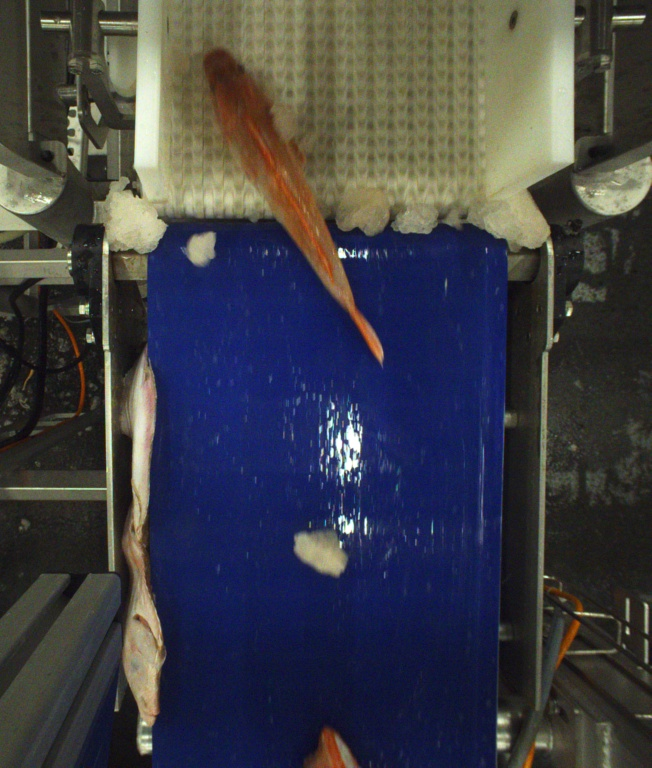GUU: (202, 46, 386, 358)
